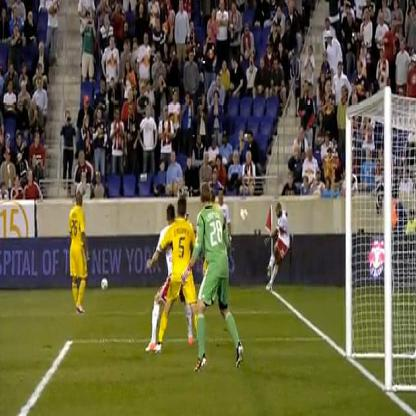corner kick: (239, 173, 299, 327)
